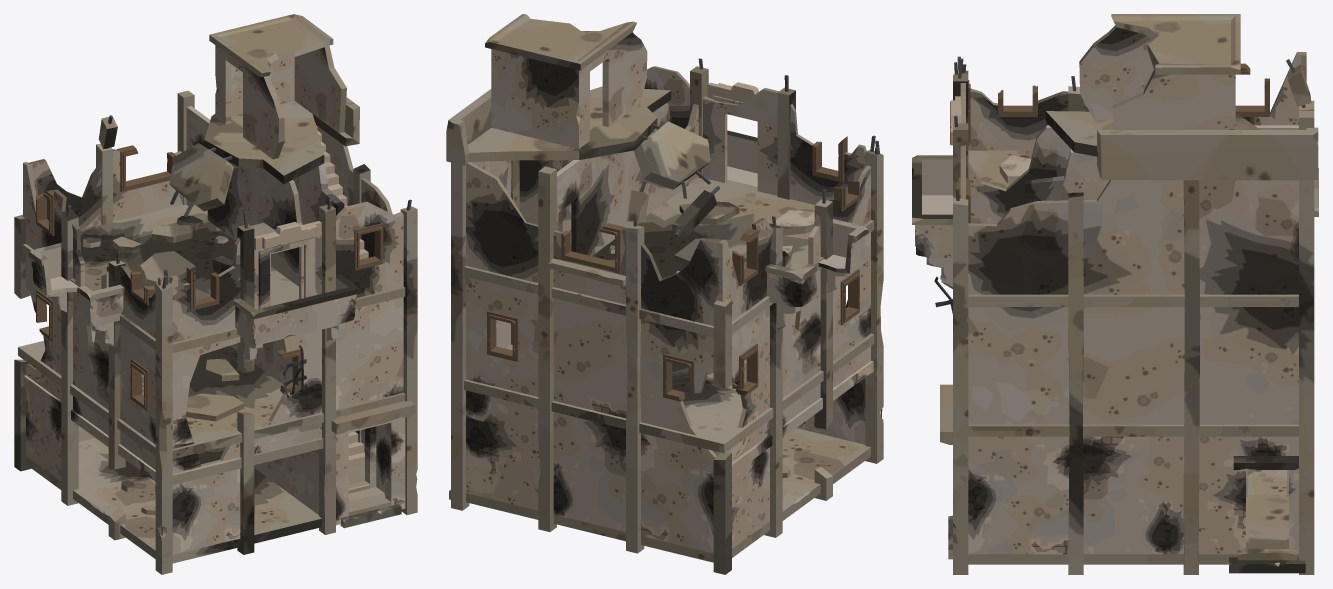
The model's file is SM_Bld_Shop_05_Destroyed.glb.
3 views of the same model, side by side, from view 1: azimuth 30°, elevation 25°; view 2: azimuth 150°, elevation 25°; view 3: azimuth 270°, elevation 25° (orthographic). The views are drawn at different scales.
Visible parts, largest first — view 1: SM_Bld_Shop_05_Destroyed; view 2: SM_Bld_Shop_05_Destroyed; view 3: SM_Bld_Shop_05_Destroyed.
Boxes of the visible parts, x1=… form: SM_Bld_Shop_05_Destroyed: x1=14, y1=14, x2=417, y2=574; SM_Bld_Shop_05_Destroyed: x1=446, y1=14, x2=883, y2=574; SM_Bld_Shop_05_Destroyed: x1=912, y1=14, x2=1318, y2=574.
Bounding box in the file's own units: 10.68 × 14.54 × 10.58.
Materials: 1 (1 with a texture image).
